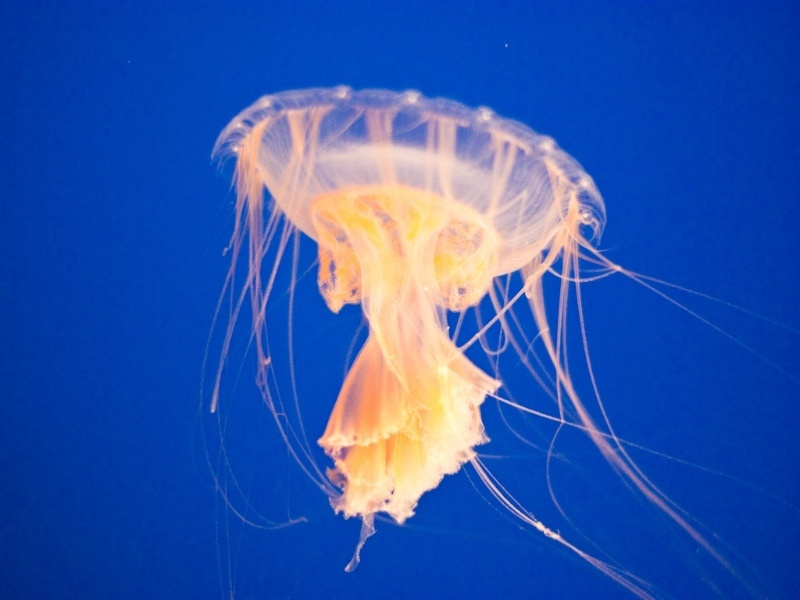Jellyfish: (190, 84, 800, 599)
